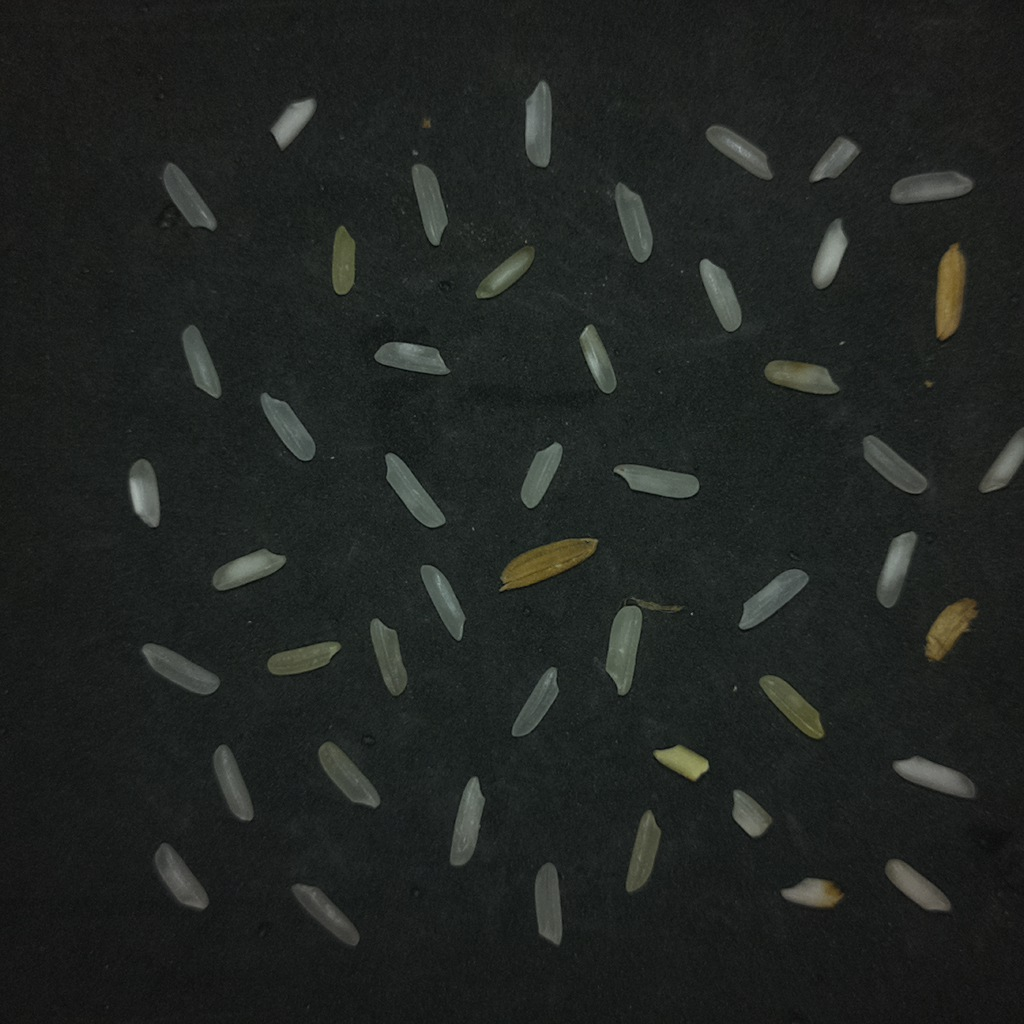broken: (212, 548, 285, 590), (520, 442, 562, 508), (579, 324, 616, 393), (374, 342, 449, 374), (809, 136, 860, 182), (128, 459, 160, 527), (732, 789, 772, 837), (780, 878, 843, 908)
chalky: (892, 755, 976, 798), (885, 859, 951, 912), (876, 531, 917, 607), (979, 428, 1023, 492), (812, 218, 848, 290), (270, 97, 316, 150)
discolored: (759, 675, 824, 738), (476, 245, 534, 298), (626, 810, 661, 893), (764, 360, 839, 394), (267, 642, 340, 675), (654, 745, 708, 781), (332, 226, 355, 294)
paddy: (499, 538, 597, 590), (925, 598, 977, 661), (935, 243, 965, 340)
whole: (385, 452, 445, 527), (291, 883, 359, 946), (739, 568, 808, 629), (141, 643, 219, 695), (318, 741, 379, 807), (862, 436, 926, 494), (153, 843, 208, 910), (261, 393, 315, 460), (705, 125, 772, 179), (162, 163, 216, 230), (420, 564, 464, 640), (512, 667, 559, 738), (605, 605, 642, 695), (212, 744, 253, 821), (449, 777, 484, 866), (699, 259, 741, 332), (613, 464, 699, 498), (615, 183, 652, 262), (181, 325, 221, 397), (370, 618, 407, 695), (412, 164, 447, 245), (890, 171, 973, 204), (525, 80, 551, 167), (535, 862, 562, 945)
